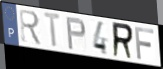4: (91, 20, 110, 57)
F: (133, 26, 155, 61)
P: (65, 17, 88, 52)
R: (18, 8, 43, 48), (112, 21, 135, 61)
T: (42, 11, 63, 49)
